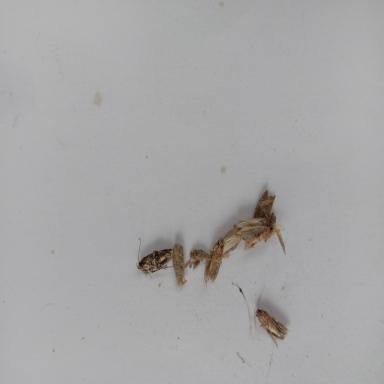pbw: (136, 236, 173, 275), (253, 306, 288, 346), (202, 238, 225, 286), (253, 189, 278, 218), (218, 226, 241, 255)
